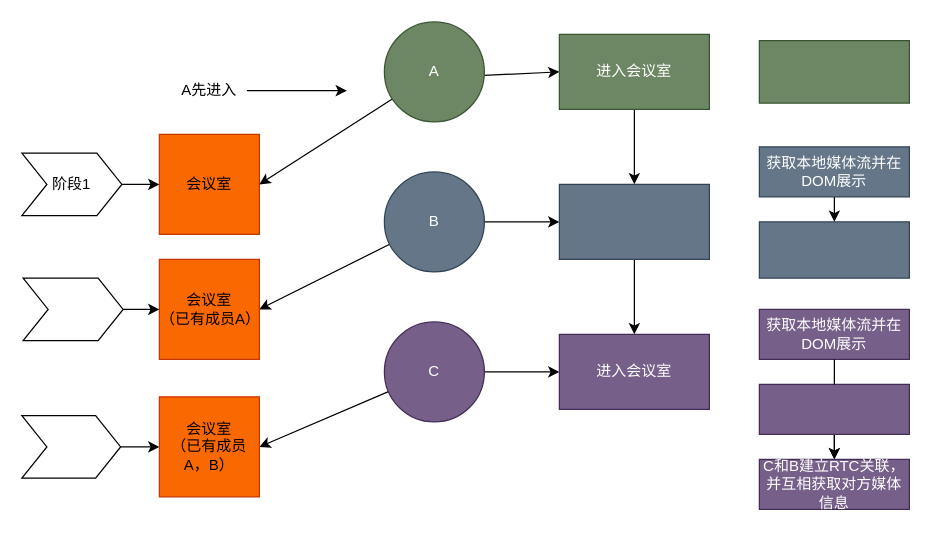
Image size: 931x533. Some labels were removed from this diagram. Each missing label, with the centre of its shape:
"B和A建立RTC关联，并互相获取对方媒体信息" goes at (x=833, y=249).
"C和A建立RTC关联，并互相获取对方媒体信息" goes at (x=833, y=408).
"仅获取本地媒体流并在DOM展示" goes at (x=833, y=71).
"进入会议室后" goes at (x=633, y=221).
"阶段2" goes at (x=72, y=309).
"阶段3" goes at (x=71, y=446).
